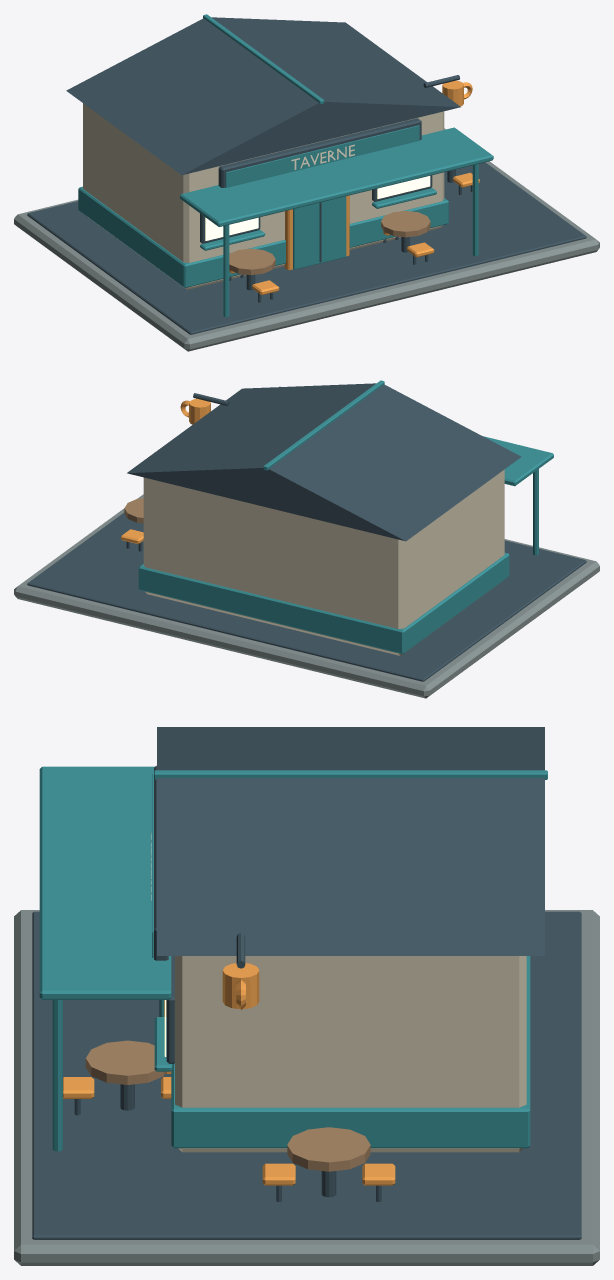
File: tavern.glb
3 renders of one model, top to bottom at view 1: azimuth 30°, elevation 25°; view 2: azimuth 150°, elevation 25°; view 3: azimuth 270°, elevation 25°, orthographic. The views are drawn at different scales.
Visible parts, largest first — view 1: tavern; view 2: tavern; view 3: tavern.
Boxes of the visible parts, x1,y1,x2,y2 form: tavern: (14, 14, 599, 351); tavern: (14, 380, 599, 698); tavern: (14, 727, 599, 1265).
Size of the model in its own units: 11 by 4.55 by 8.
